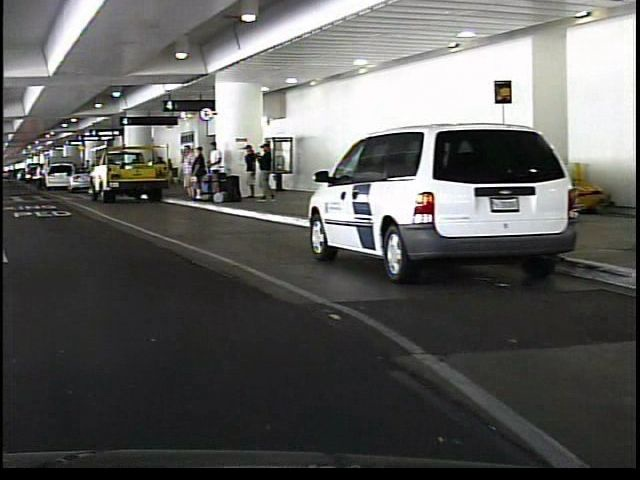person: (175, 141, 192, 201), (255, 142, 271, 204), (31, 161, 43, 192)
